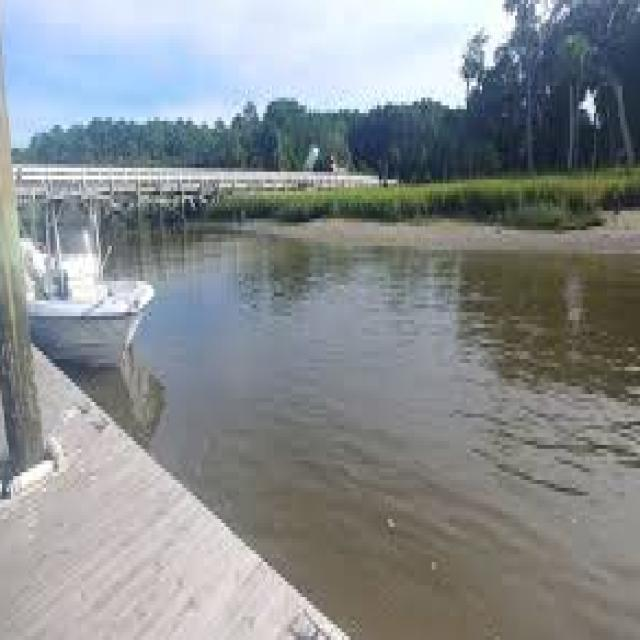houseboat: (8, 184, 158, 361)
